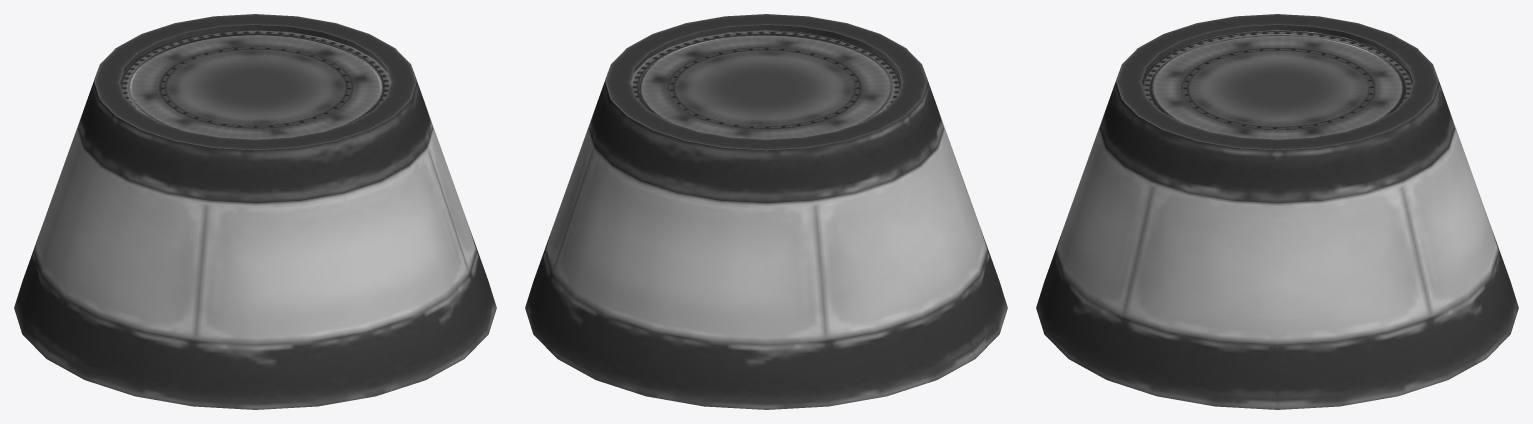
Rendered from bluedog_thor625mAdapter.dae.
The picture shows the model from 3 angles, left to right: view 1: azimuth 30°, elevation 25°; view 2: azimuth 150°, elevation 25°; view 3: azimuth 270°, elevation 25°; orthographic projection.
Visible parts, largest first — view 1: thor_9375_625_adapter, polySurface24; view 2: thor_9375_625_adapter, polySurface24; view 3: thor_9375_625_adapter, polySurface24.
Boxes of the visible parts, bbox=[...] form: thor_9375_625_adapter: bbox=[14, 14, 496, 409]; polySurface24: bbox=[120, 30, 390, 139]; thor_9375_625_adapter: bbox=[525, 14, 1007, 409]; polySurface24: bbox=[631, 30, 901, 139]; thor_9375_625_adapter: bbox=[1036, 14, 1518, 409]; polySurface24: bbox=[1142, 30, 1412, 139].
Size of the model in its own units: 0.9361 by 0.4831 by 0.9361.
